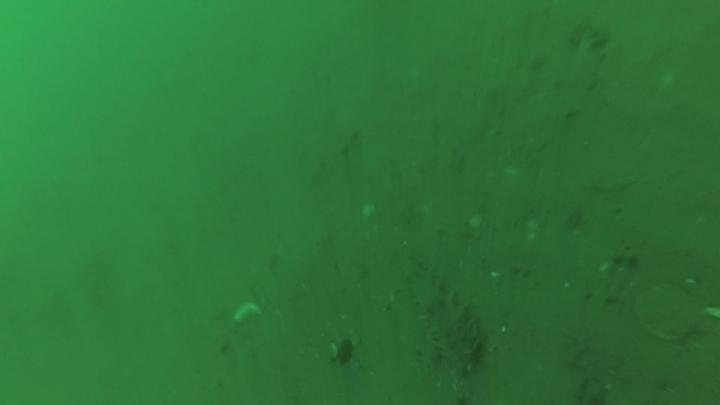holothurian: (401, 265, 484, 374)
scallop: (634, 284, 701, 342)
